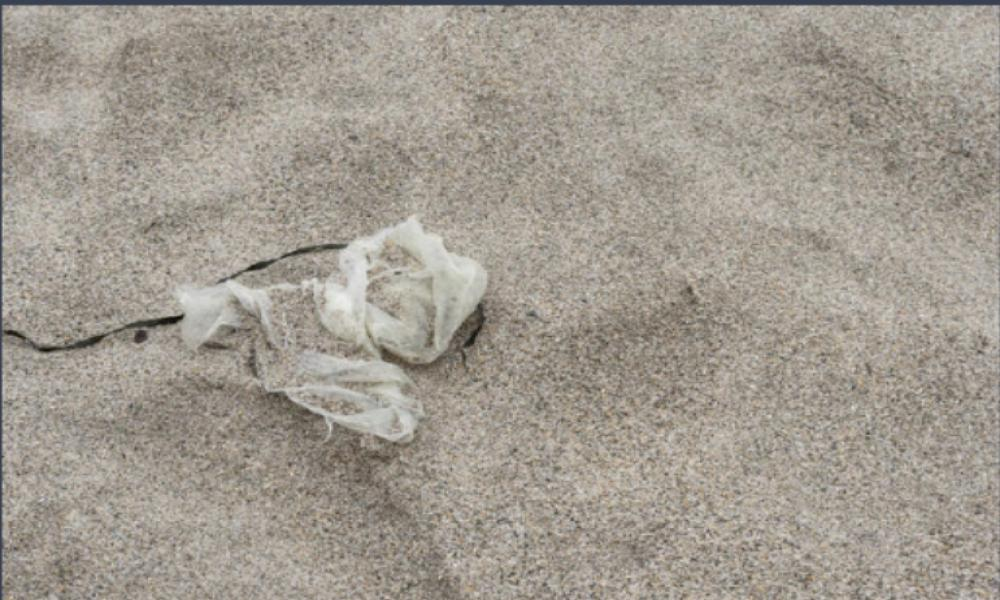plastic bag: (152, 201, 500, 449)
